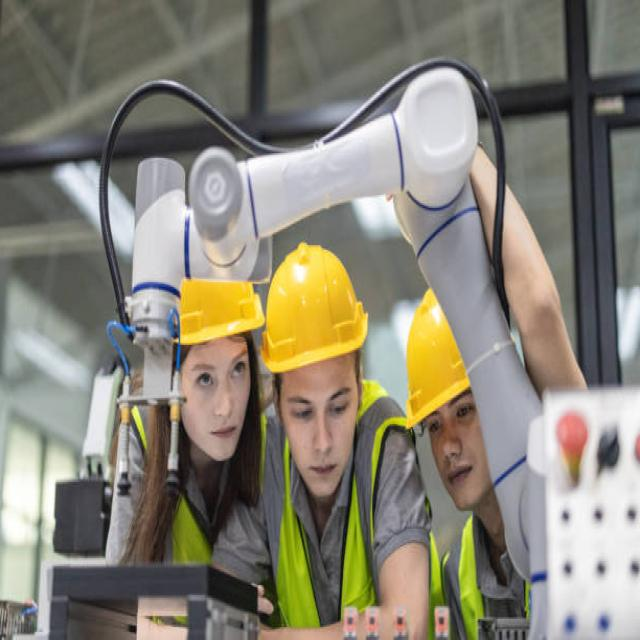Robotic-arm: (106, 49, 552, 509)
